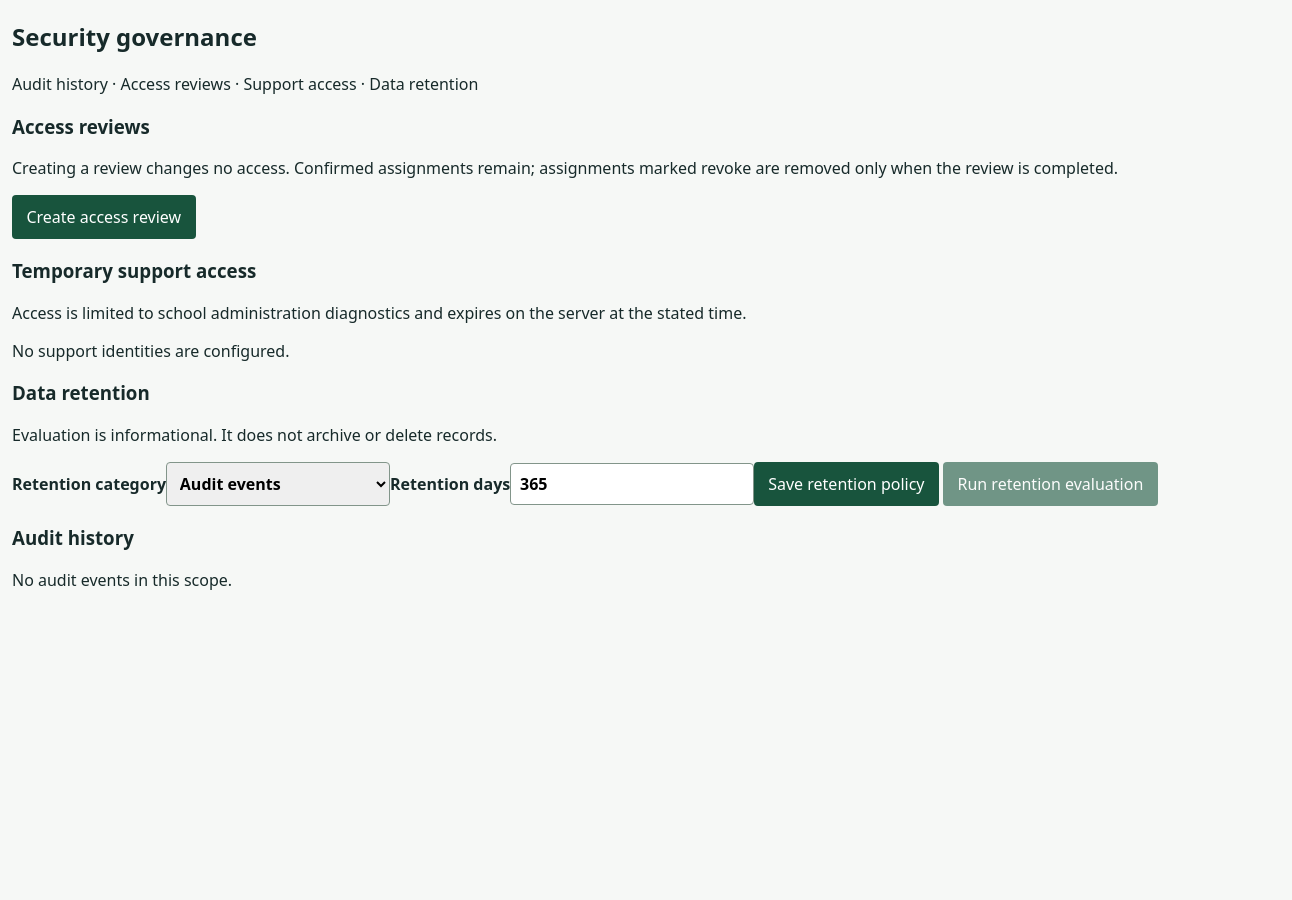
Scenario: governance workspace › creates a review and records explicit assignment decisions
Expected: the heading "Security governance" is shown, [12,20,257,53]
Click the button "Create access review" at (104, 217), box [12,195,196,239]
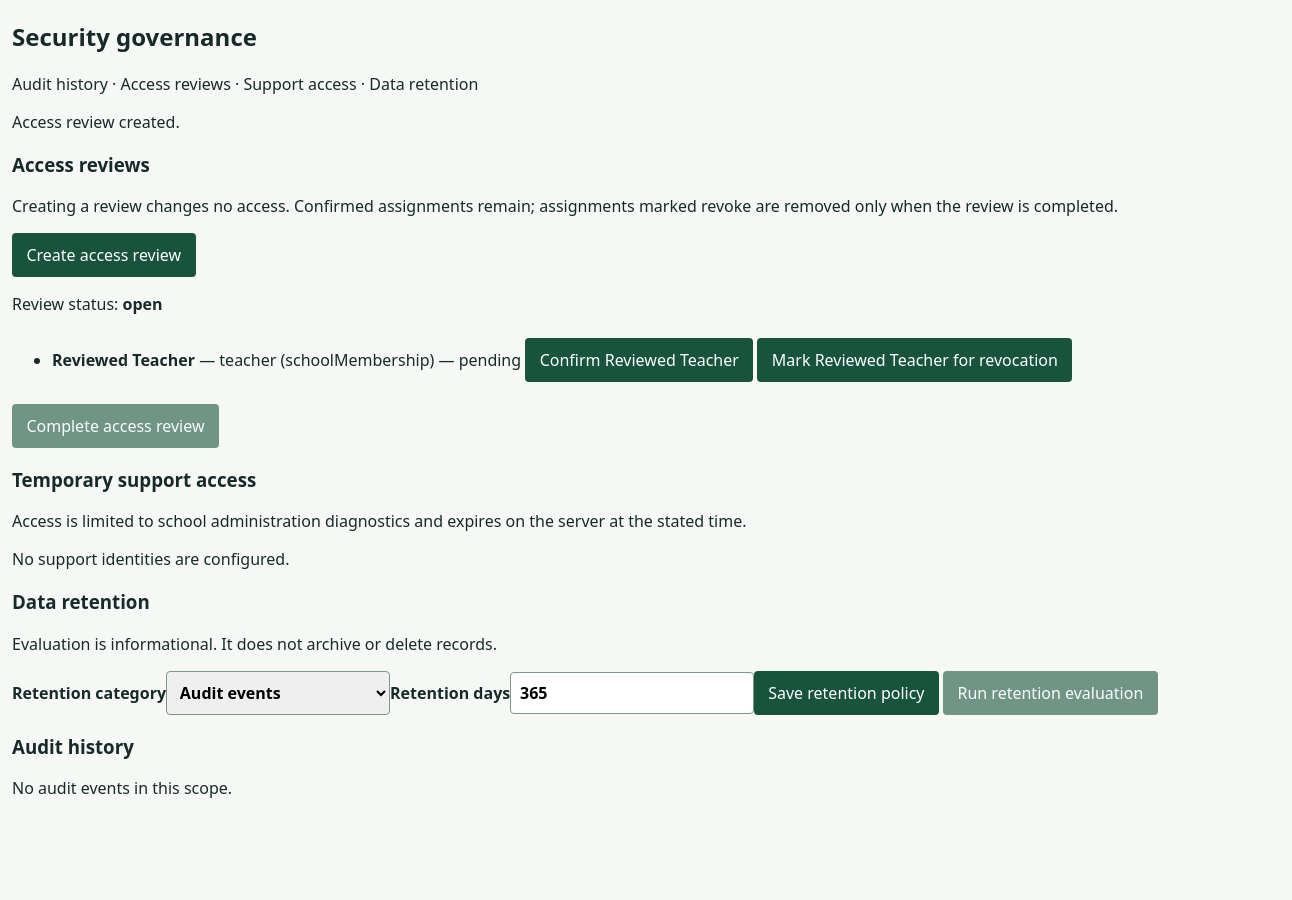
Click the button "Confirm Reviewed Teacher" at (639, 360), box [525,338,753,382]
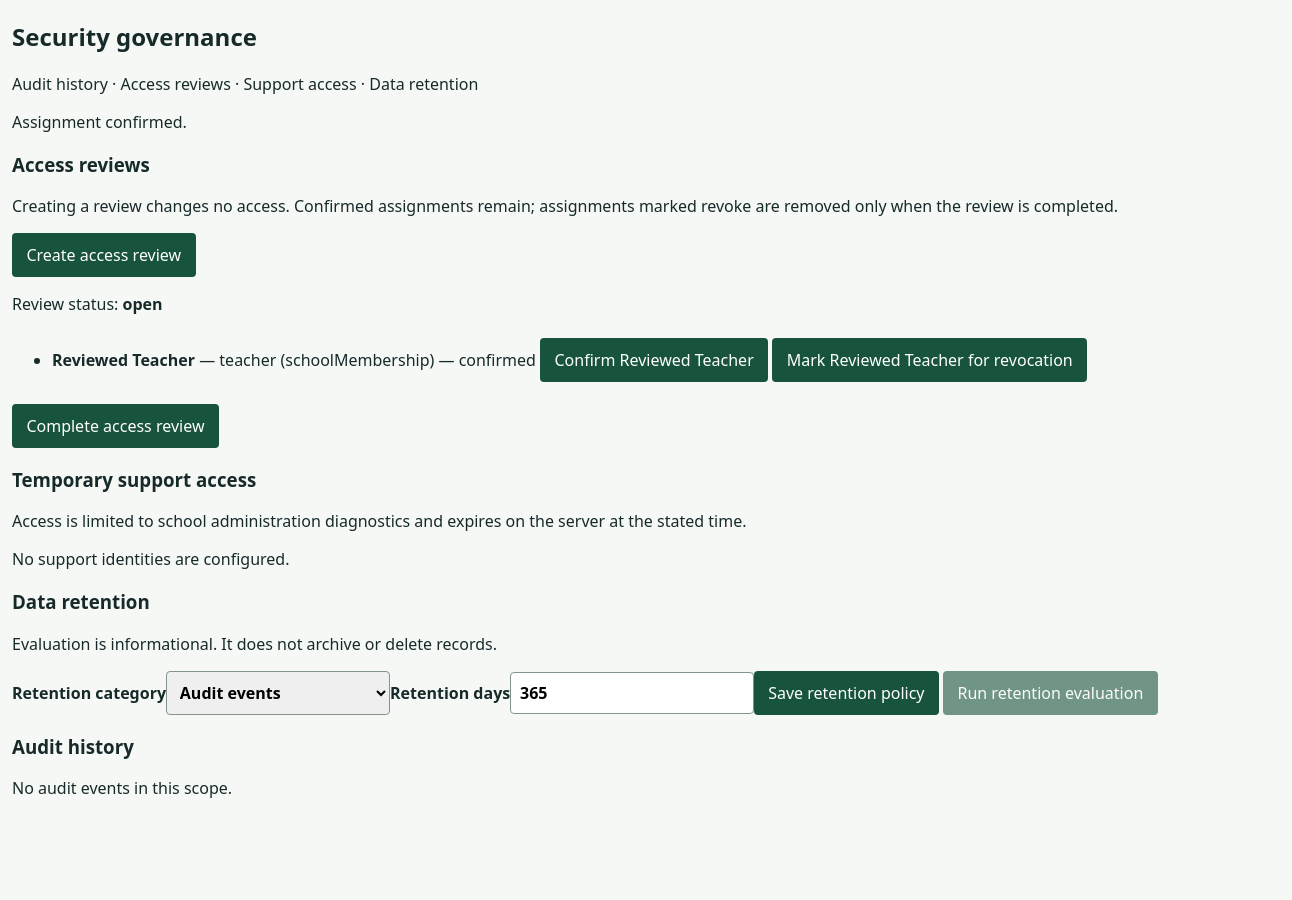
Expected: the text "Creating a review changes no access" is shown, [12,195,1118,217]
Result: the list item is shown at [52,338,1087,382]
